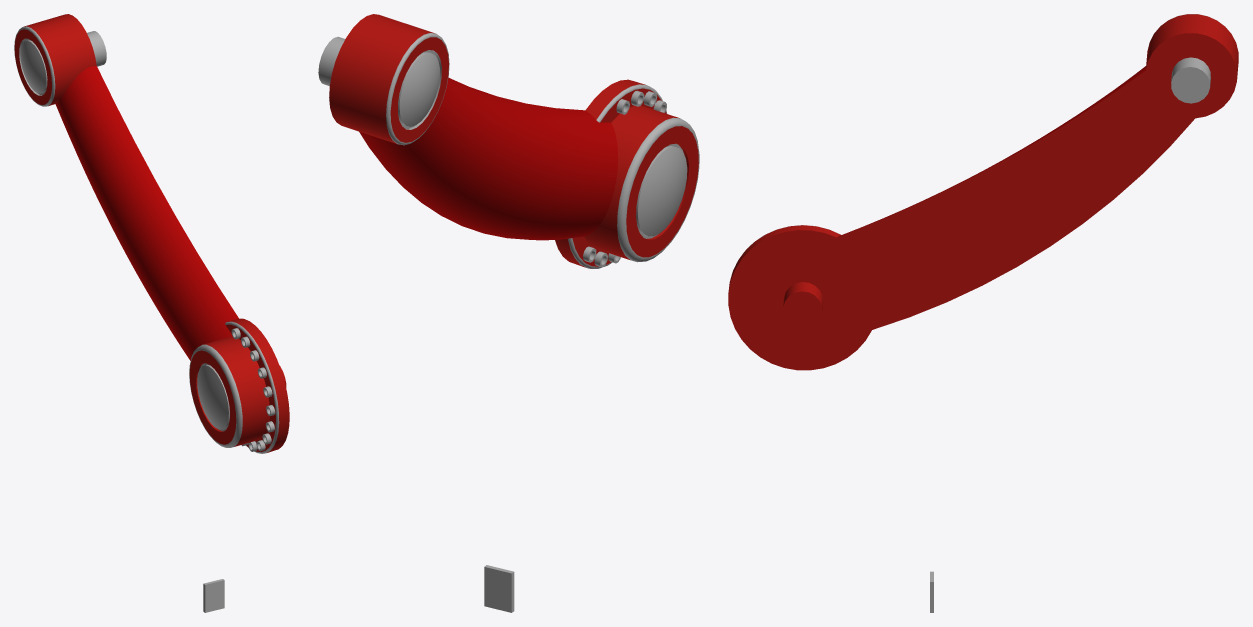
Rendered from Link_Arm.glb.
3 renders of one model, left to right at view 1: azimuth 30°, elevation 25°; view 2: azimuth 150°, elevation 25°; view 3: azimuth 270°, elevation 25°, orthographic. The views are drawn at different scales.
Visible parts, largest first — view 1: Solid1.002, Solid2; view 2: Solid1.002, Solid2; view 3: Solid1.002.
Boxes of the visible parts, x1,y1,x2,y2 form: Solid1.002: (14,14,289,453); Solid2: (203,579,224,612); Solid1.002: (318,14,699,268); Solid2: (484,565,514,612); Solid1.002: (728,14,1238,370).
Bounding box in the file's own units: 0.0748 × 0.4736 × 0.3889.
